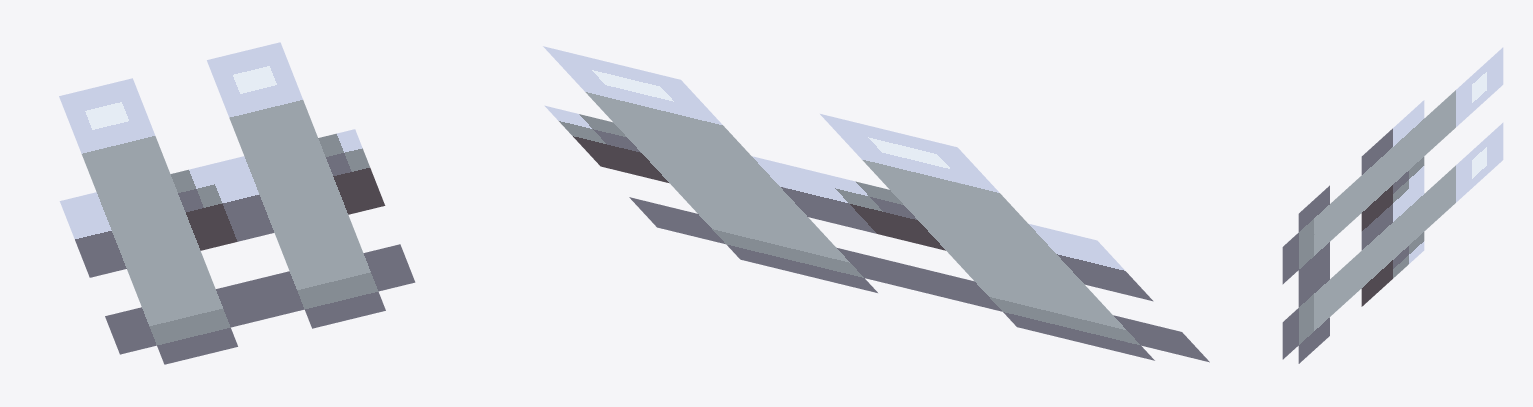
The picture shows the model from 3 angles, left to right: view 1: azimuth 30°, elevation 25°; view 2: azimuth 150°, elevation 25°; view 3: azimuth 270°, elevation 25°; orthographic projection. The views are drawn at different scales.
Bounding box in the file's own units: 1 × 0.707 × 0.707.
Materials: 1 (1 with a texture image).
